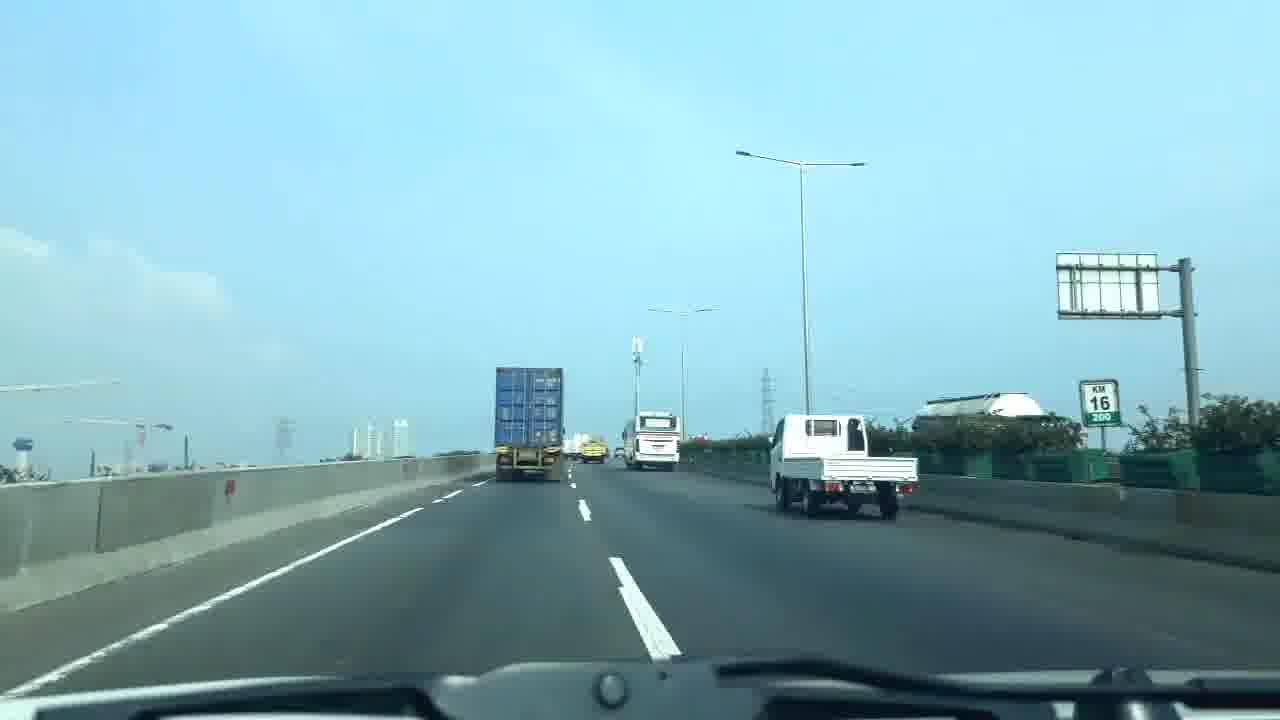plate_positive: (849, 485, 877, 494)
